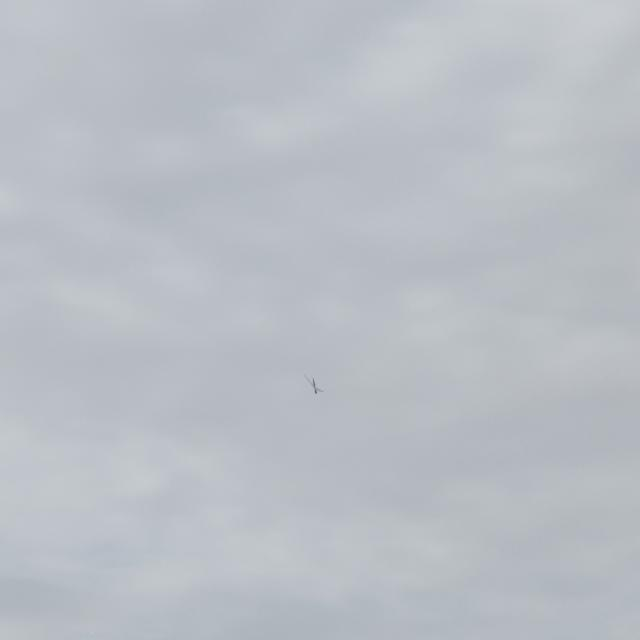Airaplan: (304, 374, 324, 394)
